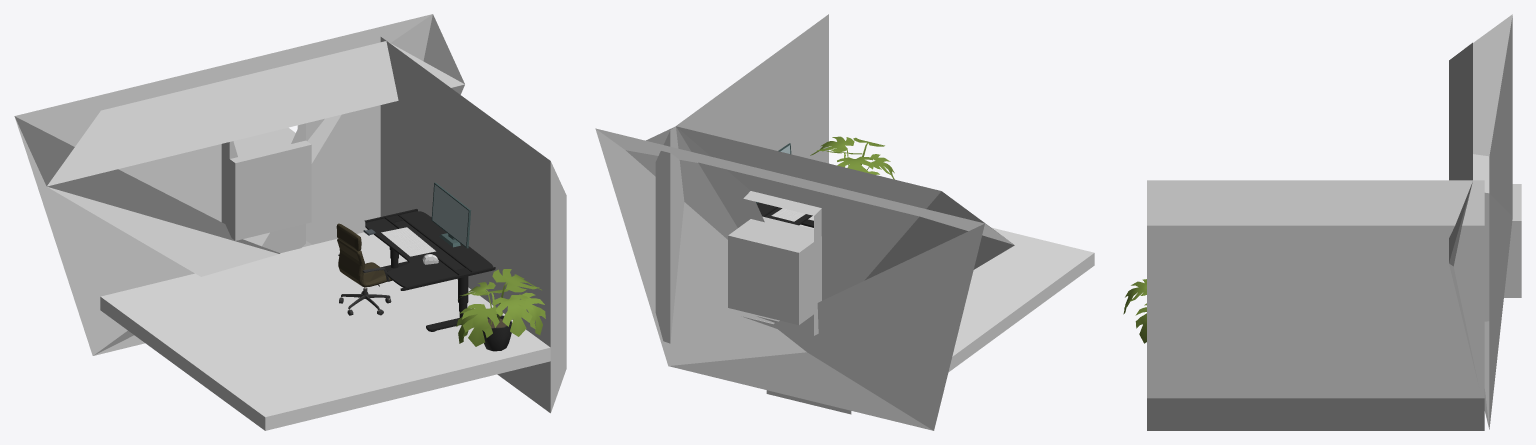
The model's file is Office.glb.
The picture shows the model from 3 angles, left to right: view 1: azimuth 30°, elevation 25°; view 2: azimuth 150°, elevation 25°; view 3: azimuth 270°, elevation 25°; orthographic projection. The views are drawn at different scales.
Visible parts, largest first — view 1: Plane.002, Plane, Plane.001, Cube, Houseplant_7, Plane.001_Plane.002, Node, computerScreen, Keyboard1.001; view 2: Plane.002, Plane.001, Plane, Cube, Houseplant_7; view 3: Plane.001, Plane.002, Cube, Houseplant_7.
Part boxes in pixels (x1=…): Plane.002: x1=14, y1=14, x2=464, y2=355; Plane: x1=100, y1=232, x2=550, y2=430; Plane.001: x1=380, y1=37, x2=566, y2=413; Cube: x1=226, y1=127, x2=311, y2=240; Houseplant_7: x1=456, y1=269, x2=545, y2=351; Plane.001_Plane.002: x1=365, y1=211, x2=493, y2=287; Node: x1=336, y1=223, x2=392, y2=315; computerScreen: x1=431, y1=182, x2=471, y2=248; Keyboard1.001: x1=381, y1=227, x2=435, y2=256; Plane.002: x1=595, y1=126, x2=1014, y2=430; Plane.001: x1=655, y1=14, x2=828, y2=343; Plane: x1=742, y1=215, x2=1094, y2=372; Cube: x1=728, y1=216, x2=821, y2=324; Houseplant_7: x1=810, y1=136, x2=894, y2=179; Plane.001: x1=1147, y1=180, x2=1484, y2=430; Plane.002: x1=1449, y1=14, x2=1512, y2=429; Cube: x1=1484, y1=184, x2=1521, y2=297; Houseplant_7: x1=1123, y1=279, x2=1146, y2=343.
Bounding box in the file's own units: 5.87 × 3.54 × 4.87.
